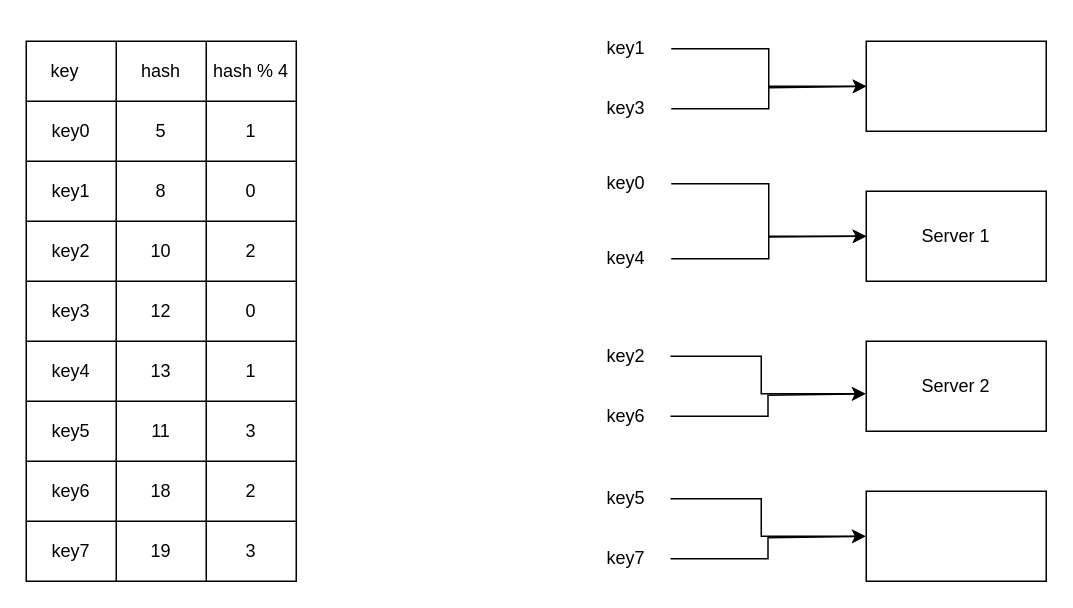
Some shapes in this 1073 by 608 pixel diagram are drawn without their labels. Here are the shapes that lost their labels. From the top down, the centre of each, then its label:
At (955,85): "Server 0".
At (955,535): "Server 3".
